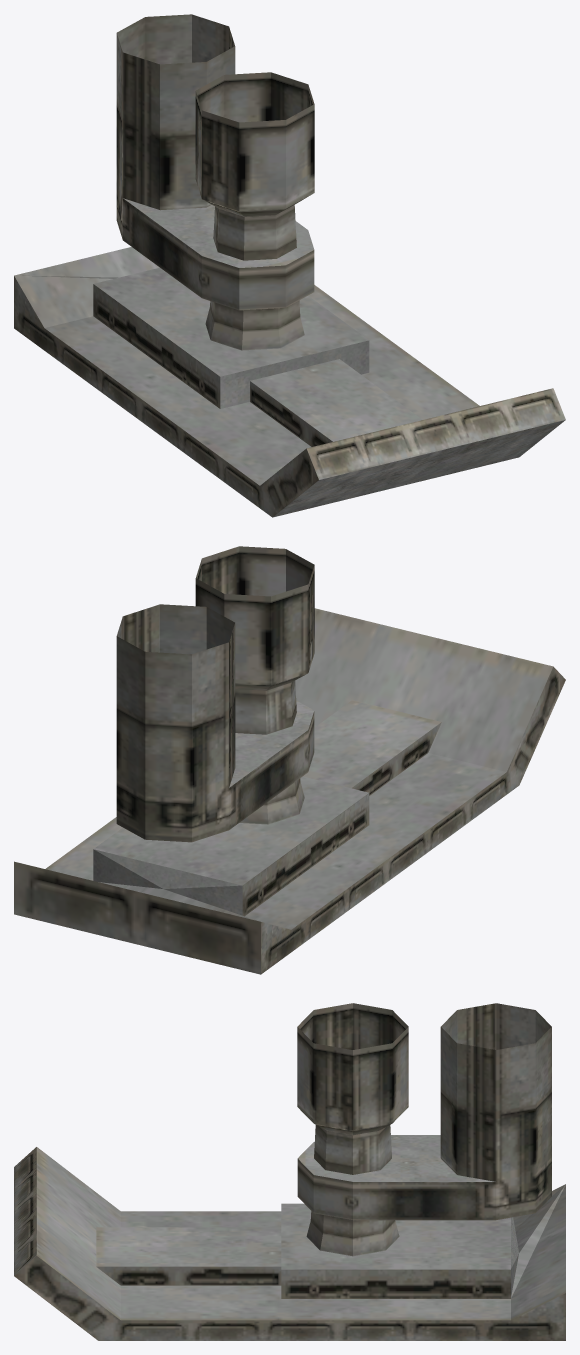
File: transport_strut_a_l1.fbx
3 views of the same model, one above another, from view 1: azimuth 30°, elevation 25°; view 2: azimuth 150°, elevation 25°; view 3: azimuth 270°, elevation 25° (orthographic). The views are drawn at different scales.
Parts seen in each view (by area): view 1: mesh_node; view 2: mesh_node; view 3: mesh_node.
Boxes of the visible parts, x1,y1,x2,y2 form: mesh_node: [14, 14, 565, 517]; mesh_node: [14, 546, 565, 974]; mesh_node: [14, 1003, 565, 1340].
Bounding box in the file's own units: 1.8 × 2 × 3.85.
1 material, 1 textured.
